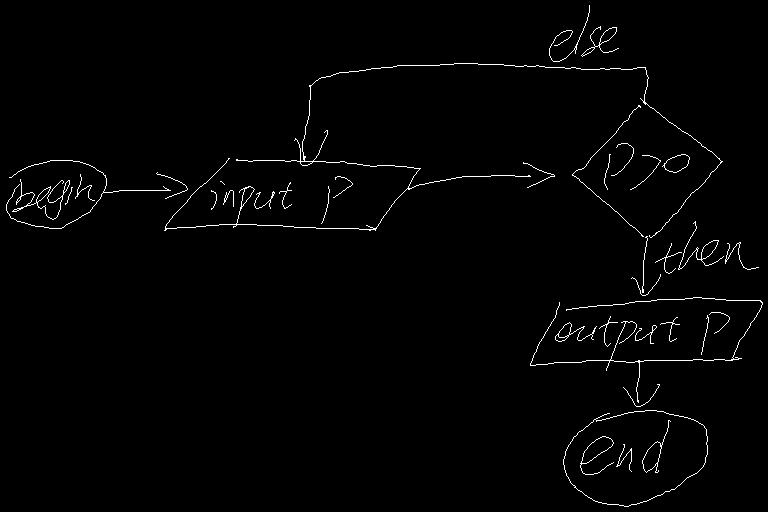arrow: (294, 63, 648, 165), (408, 162, 554, 189), (104, 172, 187, 198), (631, 236, 660, 295), (623, 360, 659, 406)
data: (164, 158, 420, 230), (530, 297, 762, 365)
decision: (572, 102, 722, 237)
terminator: (563, 410, 707, 506), (6, 160, 106, 228)
text: (555, 312, 729, 370), (211, 176, 352, 227), (655, 221, 758, 273), (580, 420, 670, 474), (604, 143, 689, 189), (549, 5, 618, 61), (12, 174, 94, 219)
